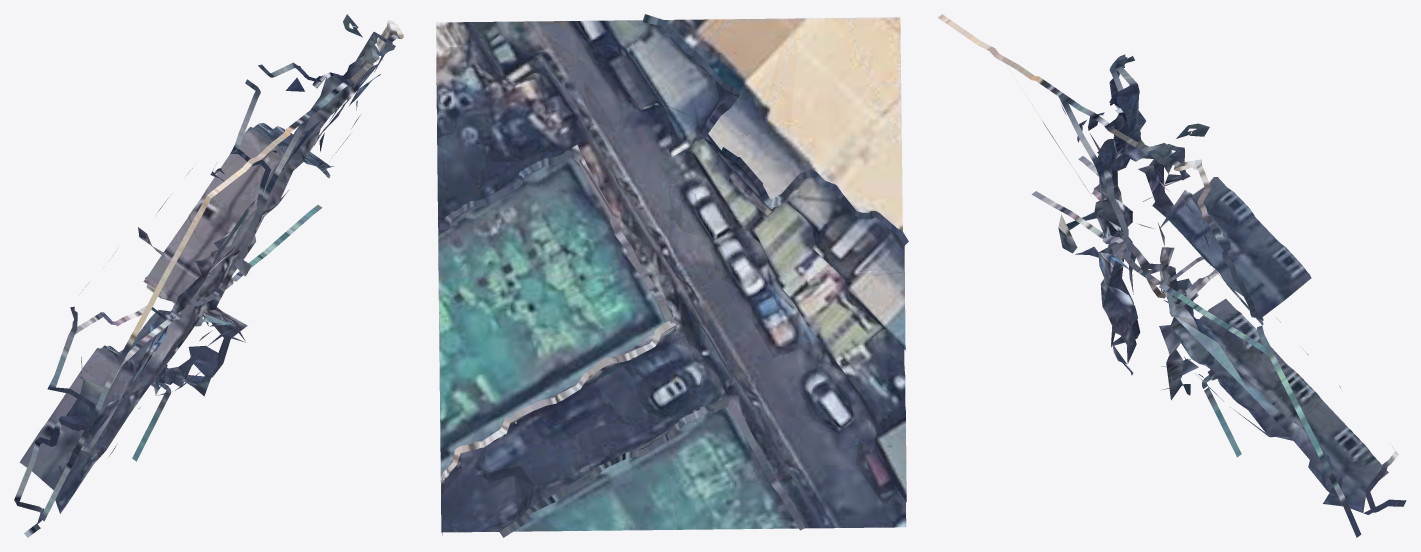
The picture shows the model from 3 angles, left to right: view 1: azimuth 30°, elevation 25°; view 2: azimuth 150°, elevation 25°; view 3: azimuth 270°, elevation 25°; orthographic projection. The views are drawn at different scales.
Size of the model in its own units: 38.42 by 37.57 by 35.99.
Materials: 2 (2 with a texture image).
